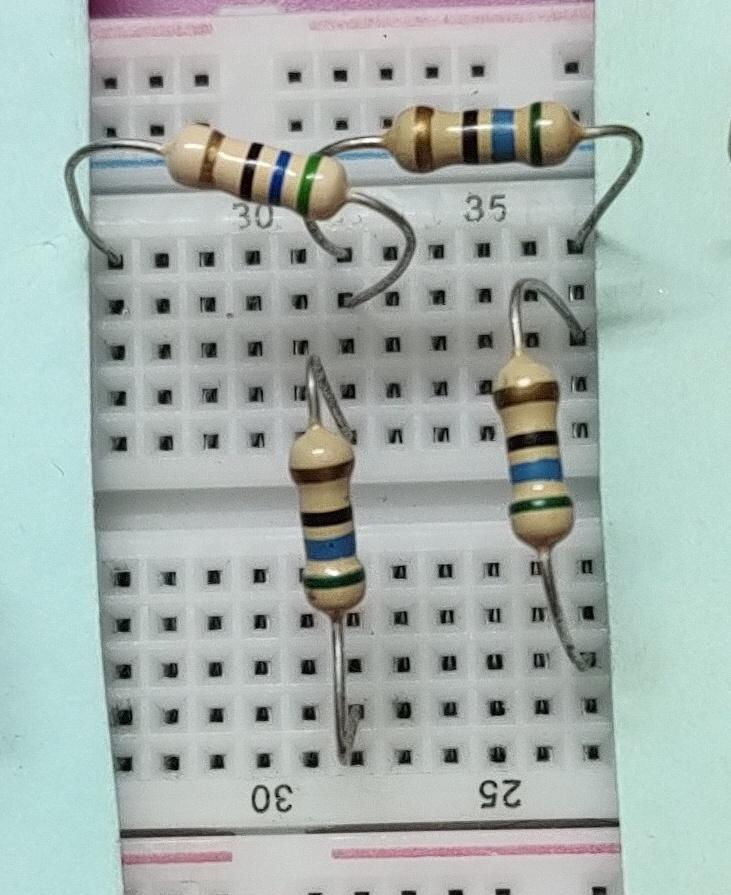resistor: (482, 342, 585, 561), (154, 117, 355, 223), (275, 409, 371, 621), (379, 99, 594, 173)
